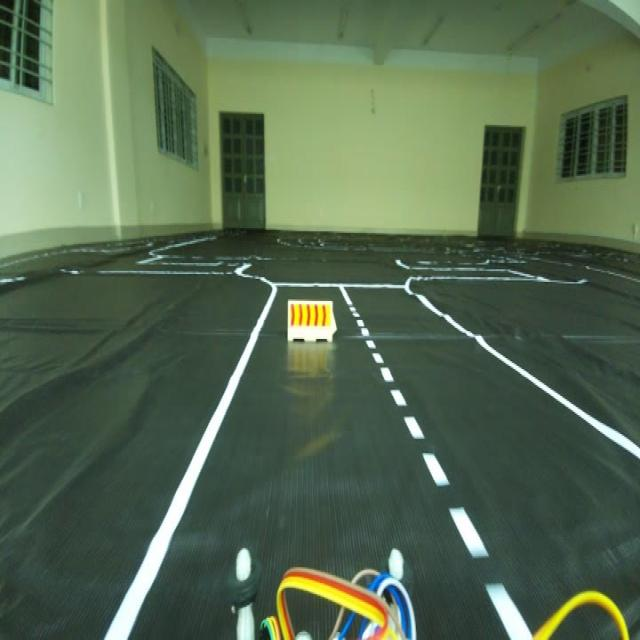roadblock: (283, 290, 342, 356)
